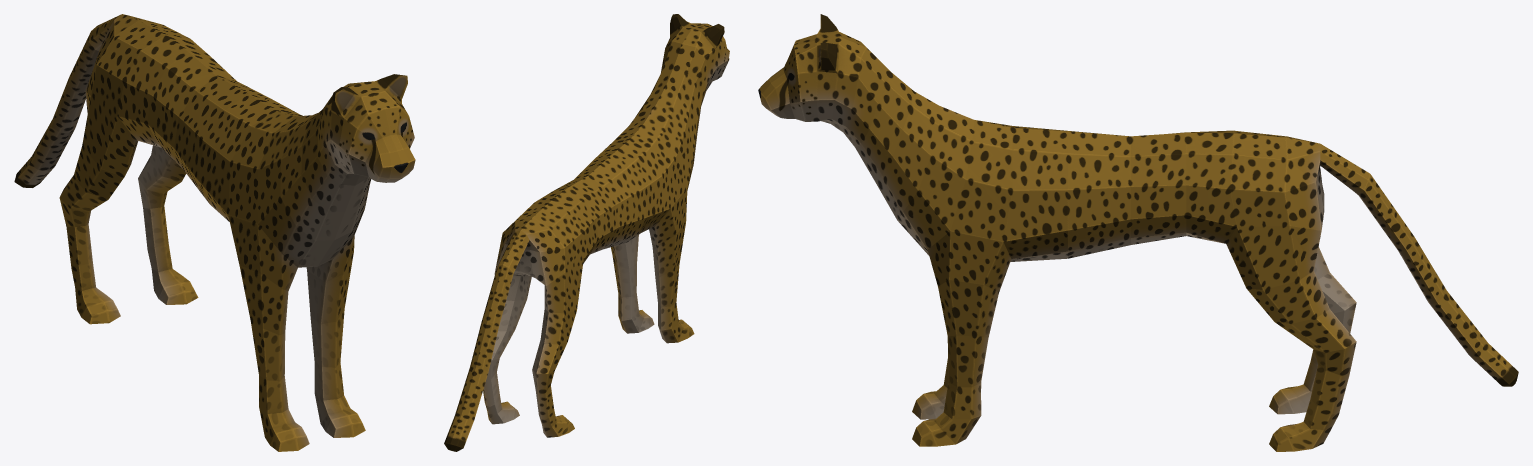
Rendered from Cheetah.gltf.
The picture shows the model from 3 angles, left to right: view 1: azimuth 30°, elevation 25°; view 2: azimuth 150°, elevation 25°; view 3: azimuth 270°, elevation 25°; orthographic projection. The views are drawn at different scales.
Visible parts, largest first — view 1: node-0; view 2: node-0; view 3: node-0.
Boxes of the visible parts, x1,y1,x2,y2 form: node-0: [14, 14, 415, 451]; node-0: [444, 14, 729, 451]; node-0: [758, 14, 1518, 451].
Size of the model in its own units: 0.4057 by 1.41 by 2.45.
Materials: 1 (1 with a texture image).
